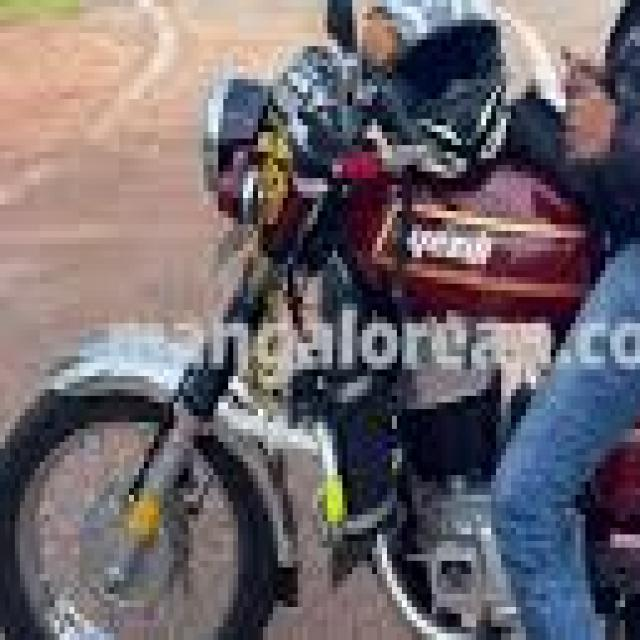bike: (10, 20, 640, 640)
